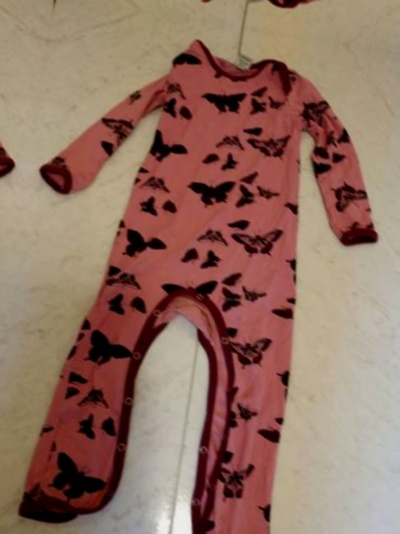Body: (0, 5, 400, 534), (0, 0, 35, 517), (76, 0, 400, 51)
